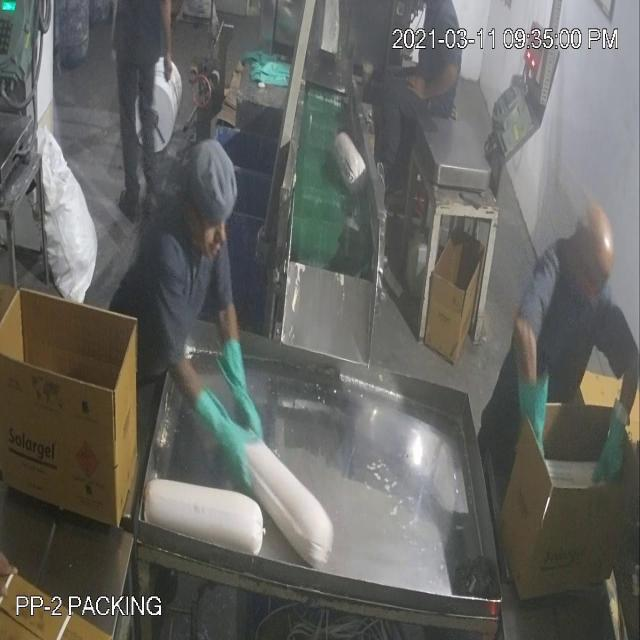Gloves: (20, 44, 616, 448)
